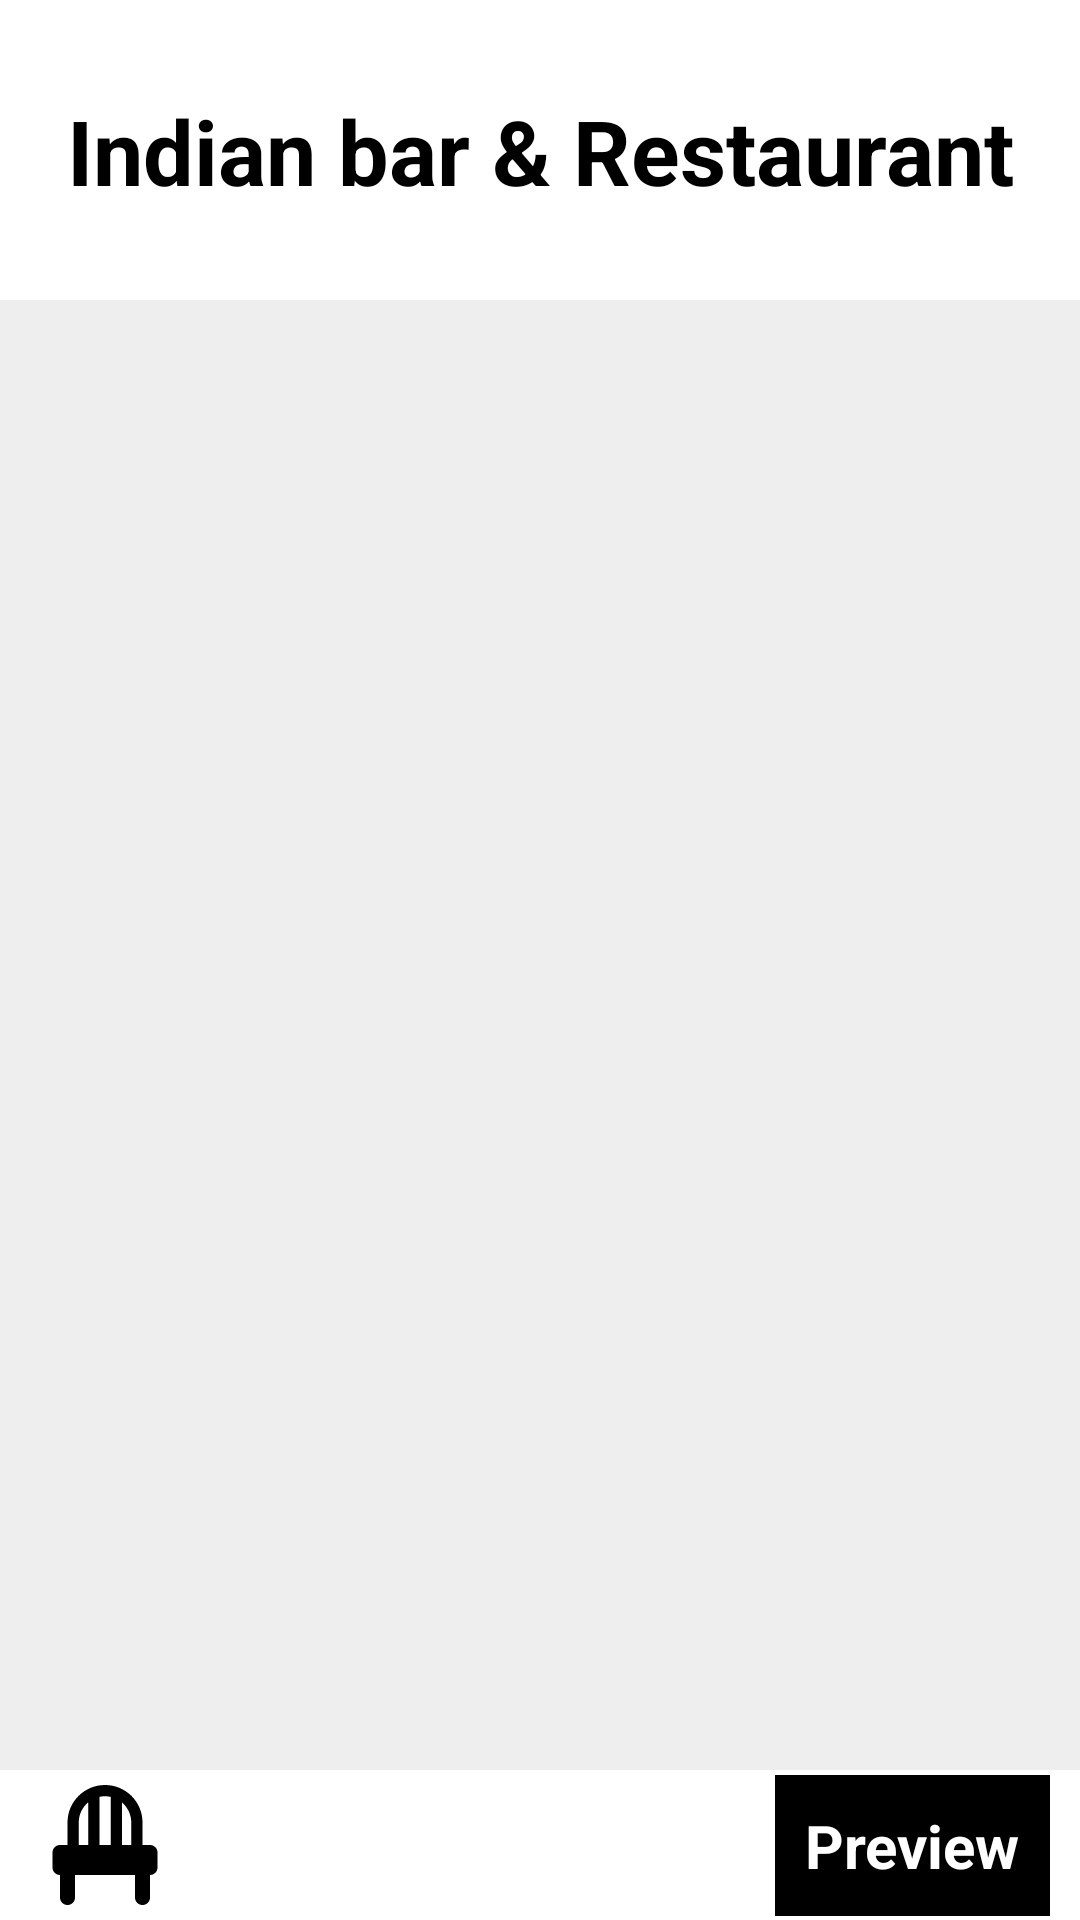

Point at icon controls on the screen. Image size 1080px×1920px, points as (x,y).
chair full: (105,1845)
